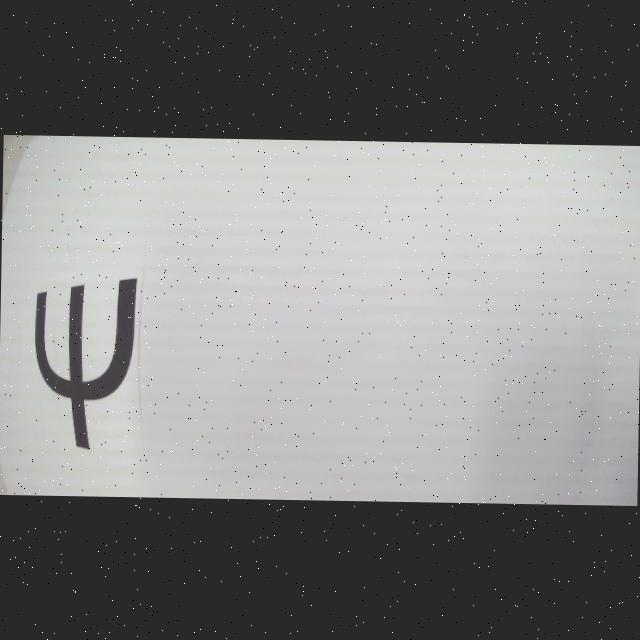PSI: (31, 276, 137, 450)
